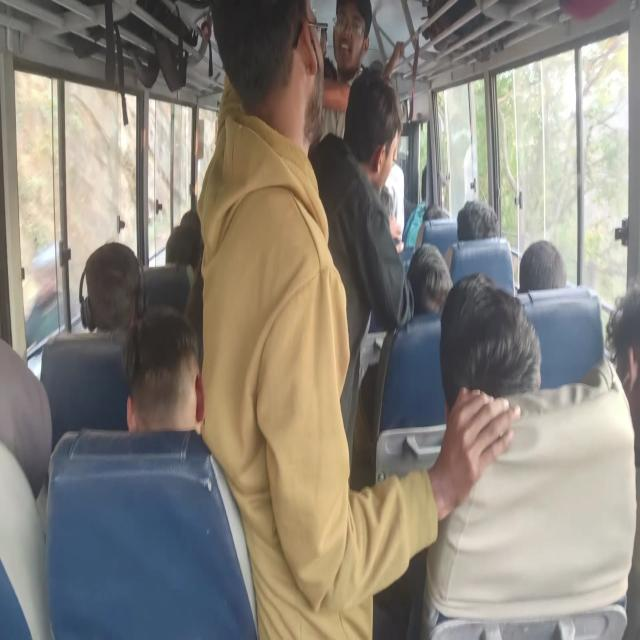person: (218, 11, 334, 168), (126, 304, 204, 494), (62, 236, 138, 339), (0, 333, 37, 524), (350, 84, 395, 194), (458, 292, 509, 376), (597, 308, 640, 404), (524, 235, 576, 304), (401, 260, 447, 336), (518, 240, 571, 302), (324, 9, 366, 74), (158, 222, 202, 279), (458, 196, 502, 250), (416, 186, 443, 237), (181, 213, 207, 247)
